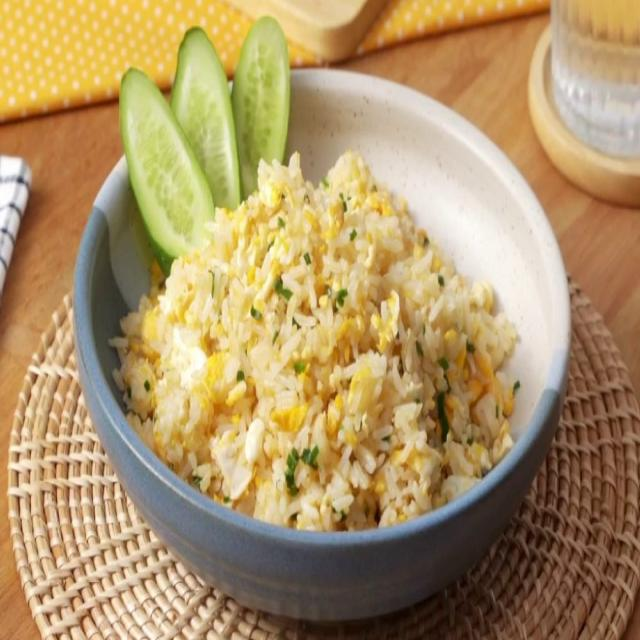carb: (186, 203, 492, 520)
fried rice: (146, 183, 530, 542)
vegetable: (287, 440, 323, 495), (329, 282, 349, 312), (250, 300, 266, 322)
